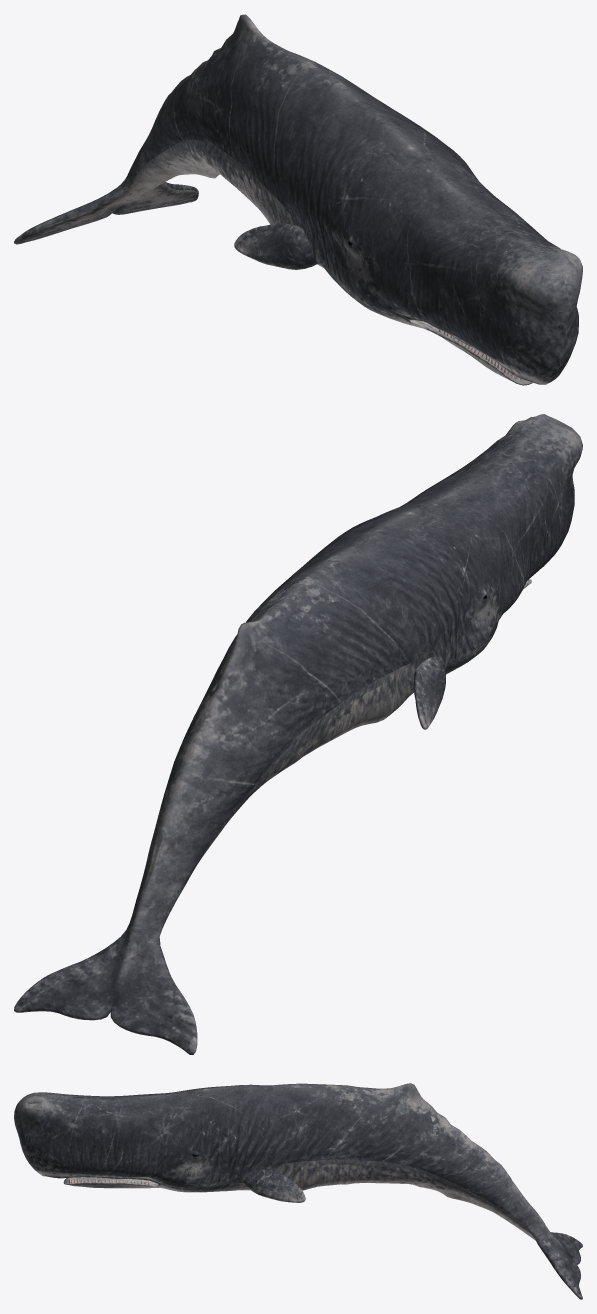
The model's file is Sperm whale.glb.
3 renders of one model, top to bottom at view 1: azimuth 30°, elevation 25°; view 2: azimuth 150°, elevation 25°; view 3: azimuth 270°, elevation 25°, orthographic. The views are drawn at different scales.
Parts seen in each view (by area): view 1: Body; view 2: Body; view 3: Body.
Part boxes in pixels (bbox=[...]): Body: bbox=[14, 14, 582, 385]; Body: bbox=[14, 414, 582, 1054]; Body: bbox=[14, 1083, 582, 1299].
Bounding box in the file's own units: 4.96 × 7.53 × 20.46.
2 materials, 1 textured.
